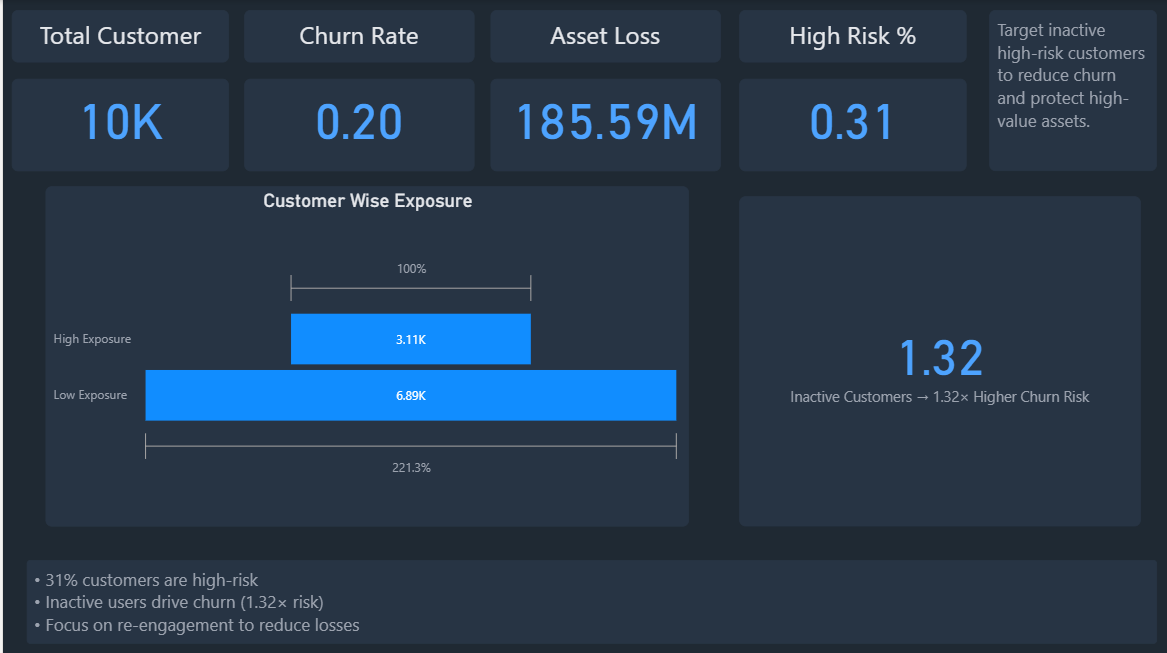

This screenshot's page, from the dashboard's own definition file:
{"tool":"powerbi","page":{"name":"exclusive overview ⭐","canvas":[1280,720],"ordinal":0},"visuals":[{"type":"textbox","box":[18.5,587.9,1248.1,119.3],"z":1000},{"type":"card","title":"Total Customers","fields":{"Values":["churn.Total Customers"]},"box":[18.5,60.5,201.6,132.7],"z":2000},{"type":"card","title":"Churn Rate","fields":{"Values":["churn.Churn Rate"]},"box":[231.8,60.5,203.3,132.7],"z":3000},{"type":"card","title":"Asset Loss","fields":{"Values":["churn.Asset Loss"]},"box":[446.8,60.5,230.1,132.7],"z":4000},{"type":"card","title":"High Risk %","fields":{"Values":["churn.High Risk %"]},"box":[688.7,60.5,196.5,132.7],"z":5000},{"type":"funnel","title":"Customer Wise Exposure","fields":{"Category":["churn_behavior_segment.exposure_segment"],"Y":["CountNonNull(churn_behavior_segment.CustomerId)"]},"box":[319.2,204.9,603,364.5],"z":6000},{"type":"card","title":"Inactive Users = X.Xx Risk","fields":{"Values":["churn.Lift Active"]},"box":[939,204.9,327.6,364.5],"z":7000},{"type":"textbox","box":[922.2,33.6,344.4,154.5],"z":8000},{"type":"pageNavigator","box":[0,204.9,295.6,364.5],"z":9000},{"type":"textbox","box":[5,11.8,917.2,43.7],"z":10000},{"type":"image","box":[231.8,110.9,75.6,53.8],"z":11000},{"type":"image","box":[18.5,110.9,63.8,53.8],"z":12000},{"type":"image","box":[446.8,110.9,63.8,53.8],"z":13000},{"type":"image","box":[688.7,110.9,60.5,53.8],"z":14000},{"type":"image","box":[970.9,33.6,235.2,65.5],"z":15000},{"type":"image","box":[1031.4,262,136.1,97.4],"z":16000},{"type":"image","box":[70.6,651.8,48.7,55.4],"z":17000},{"type":"image","box":[359.5,648.4,62.2,53.8],"z":18000},{"type":"image","box":[809.7,648.4,62.2,57.1],"z":19000}]}

Visuals, with their boxes in screenshot pixels (x1, y1, x2, y2), scaled from the page's 1280x720 canvas onto the 1167x653 screenshot:
textbox: {"left": 17, "top": 533, "right": 1155, "bottom": 641}
"Total Customers" card: {"left": 17, "top": 55, "right": 201, "bottom": 175}
"Churn Rate" card: {"left": 211, "top": 55, "right": 397, "bottom": 175}
"Asset Loss" card: {"left": 407, "top": 55, "right": 617, "bottom": 175}
"High Risk %" card: {"left": 628, "top": 55, "right": 807, "bottom": 175}
"Customer Wise Exposure" funnel: {"left": 291, "top": 186, "right": 841, "bottom": 516}
"Inactive Users = X.Xx Risk" card: {"left": 856, "top": 186, "right": 1155, "bottom": 516}
textbox: {"left": 841, "top": 30, "right": 1155, "bottom": 171}
pageNavigator: {"left": 0, "top": 186, "right": 270, "bottom": 516}
textbox: {"left": 5, "top": 11, "right": 841, "bottom": 50}
image: {"left": 211, "top": 101, "right": 280, "bottom": 149}
image: {"left": 17, "top": 101, "right": 75, "bottom": 149}
image: {"left": 407, "top": 101, "right": 466, "bottom": 149}
image: {"left": 628, "top": 101, "right": 683, "bottom": 149}
image: {"left": 885, "top": 30, "right": 1100, "bottom": 90}
image: {"left": 940, "top": 238, "right": 1064, "bottom": 326}
image: {"left": 64, "top": 591, "right": 109, "bottom": 641}
image: {"left": 328, "top": 588, "right": 384, "bottom": 637}
image: {"left": 738, "top": 588, "right": 795, "bottom": 640}
